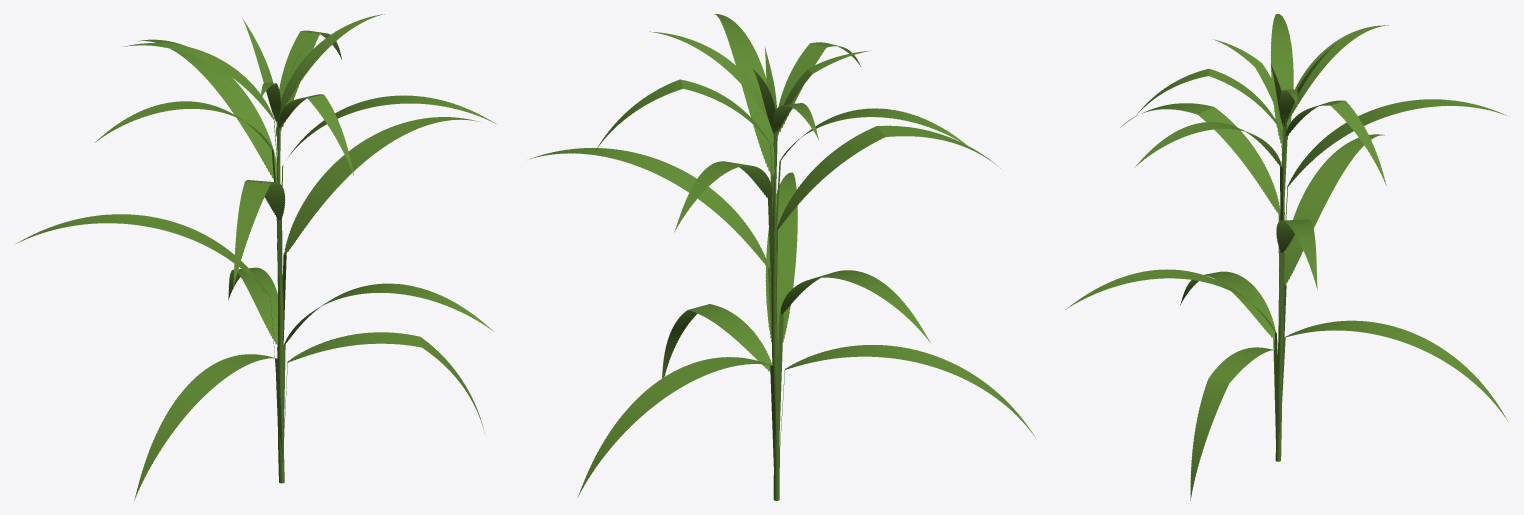
File: maize_003_day_100.dae
3 renders of one model, left to right at view 1: azimuth 30°, elevation 25°; view 2: azimuth 150°, elevation 25°; view 3: azimuth 270°, elevation 25°, orthographic. The views are drawn at different scales.
Visible parts, largest first — view 1: node; view 2: node; view 3: node.
Boxes of the visible parts, bbox=[...] form: node: bbox=[16, 14, 495, 500]; node: bbox=[529, 14, 1035, 500]; node: bbox=[1065, 14, 1509, 500].
Size of the model in its own units: 1.7 by 1.67 by 1.63.
Materials: 1 (1 with a texture image).
